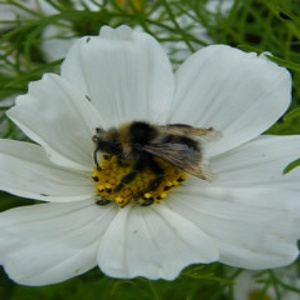bee: (90, 121, 223, 188)
